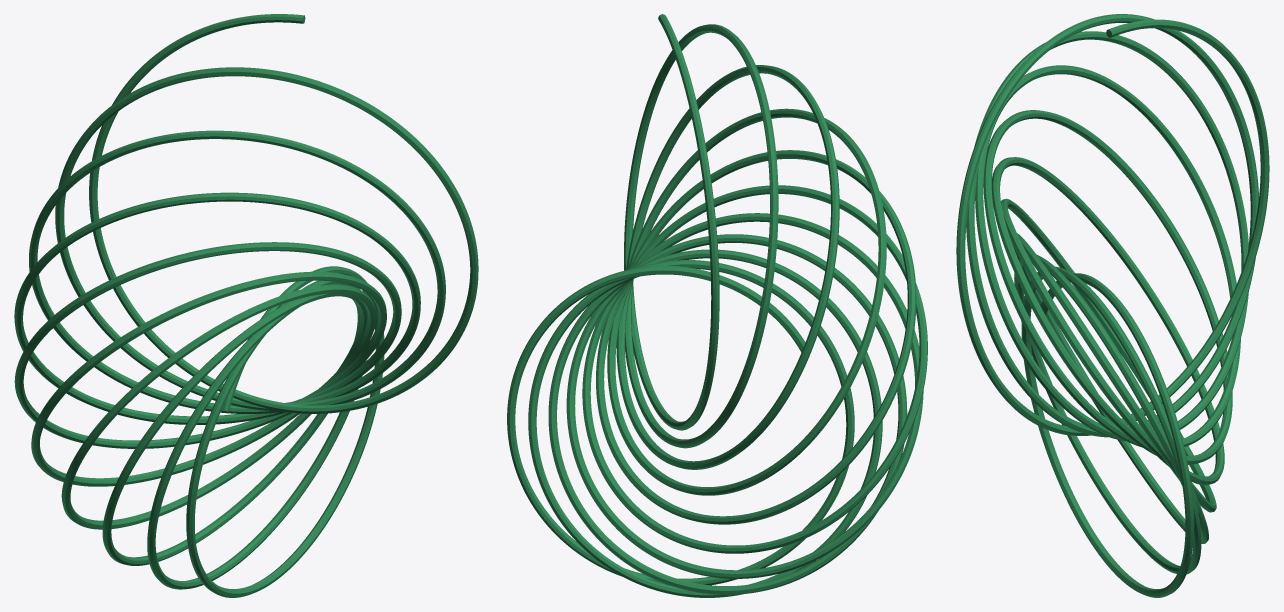
File: hopf_drift_d48_180_10circuits.tube.obj
The picture shows the model from 3 angles, left to right: view 1: azimuth 30°, elevation 25°; view 2: azimuth 150°, elevation 25°; view 3: azimuth 270°, elevation 25°; orthographic projection.
Visible parts, largest first — view 1: drift; view 2: drift; view 3: drift.
Boxes of the visible parts, x1,y1,x2,y2 form: drift: (14,14,478,597); drift: (507,14,927,597); drift: (956,14,1269,597).
Size of the model in its own units: 1.18 by 1.68 by 0.8414.
